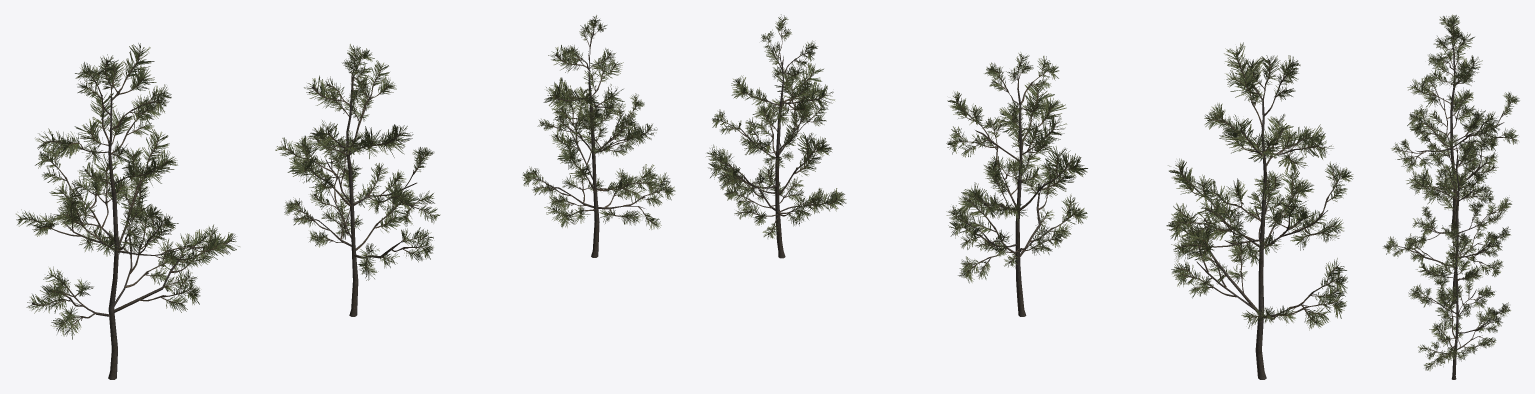
The model's file is pine_sapling_small.glb.
3 renders of one model, left to right at view 1: azimuth 30°, elevation 25°; view 2: azimuth 150°, elevation 25°; view 3: azimuth 270°, elevation 25°, orthographic. The views are drawn at different scales.
Parts seen in each view (by area): view 1: pine_sapling_small_a, pine_sapling_small_b, pine_sapling_small_c; view 2: pine_sapling_small_a, pine_sapling_small_b, pine_sapling_small_c; view 3: pine_sapling_small_a, pine_sapling_small_b, pine_sapling_small_c.
Part boxes in pixels (bbox=[...]): pine_sapling_small_a: bbox=[16, 43, 239, 379]; pine_sapling_small_b: bbox=[275, 44, 440, 316]; pine_sapling_small_c: bbox=[522, 15, 675, 257]; pine_sapling_small_a: bbox=[1166, 42, 1353, 379]; pine_sapling_small_b: bbox=[946, 52, 1087, 316]; pine_sapling_small_c: bbox=[706, 14, 846, 258]; pine_sapling_small_a: bbox=[1391, 14, 1519, 230]; pine_sapling_small_b: bbox=[1383, 133, 1511, 304]; pine_sapling_small_c: bbox=[1408, 223, 1510, 379].
Bounding box in the file's own units: 2.64 × 1.3 × 0.7703.
Materials: 2 (2 with a texture image).
